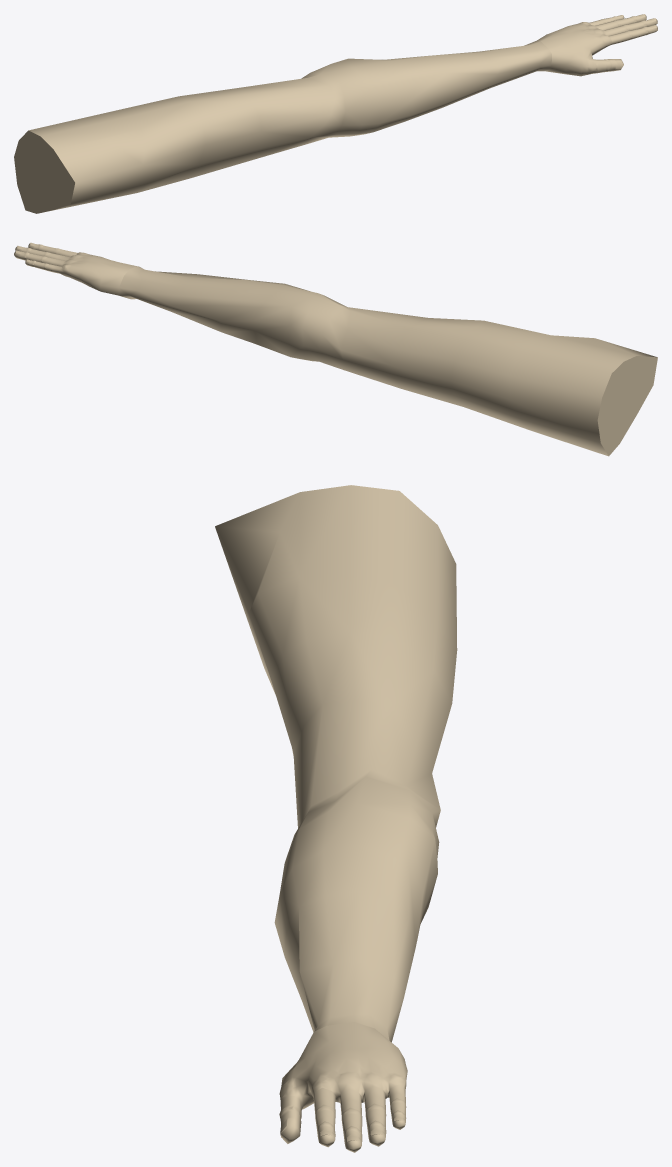
Rendered from test_arm.fbx.
3 renders of one model, top to bottom at view 1: azimuth 30°, elevation 25°; view 2: azimuth 150°, elevation 25°; view 3: azimuth 270°, elevation 25°, orthographic. The views are drawn at different scales.
Visible parts, largest first — view 1: ude1:polySurface27; view 2: ude1:polySurface27; view 3: ude1:polySurface27.
Part boxes in pixels (<box>): ude1:polySurface27: <box>14,14,657,213</box>; ude1:polySurface27: <box>14,242,657,456</box>; ude1:polySurface27: <box>215,485,457,1152</box>.
Size of the model in its own units: 37.41 by 4.93 by 6.46.
